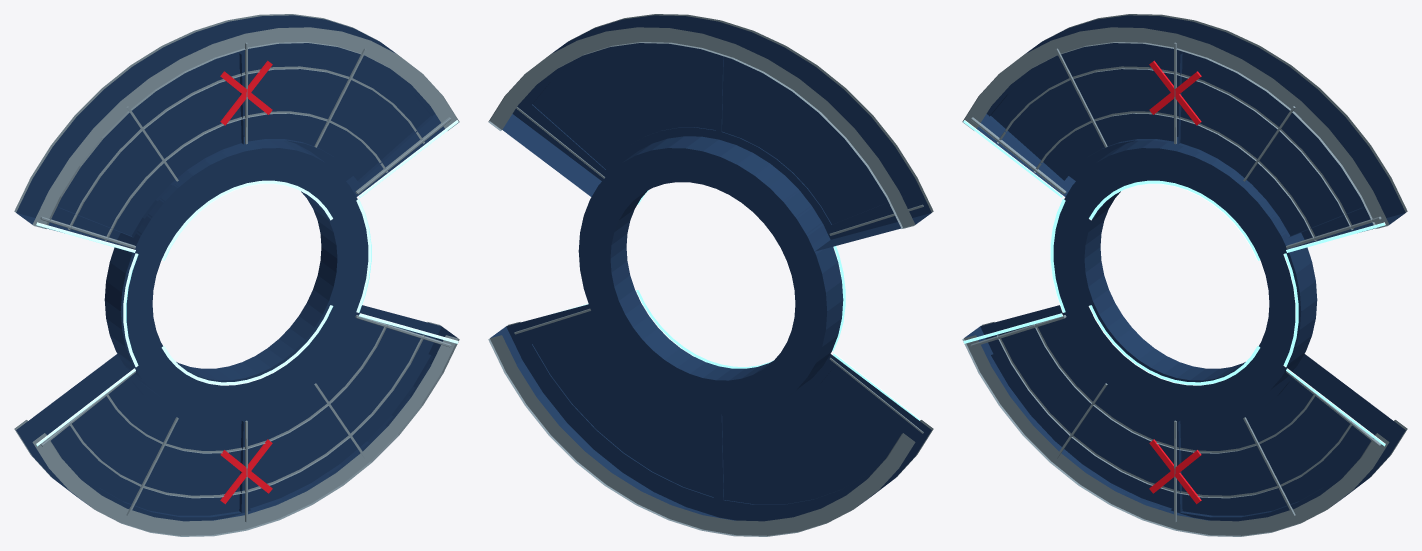
Rendered from foundry-panel-fun9-medium.glb.
3 views of the same model, side by side, from view 1: azimuth 30°, elevation 25°; view 2: azimuth 150°, elevation 25°; view 3: azimuth 330°, elevation 25° (orthographic).
Parts seen in each view (by area): view 1: RENDER_PANEL_SHELL, RENDER_PANEL_FRAME, RENDER_PANEL_SIGNAL, RENDER_PANEL_HAZARD; view 2: RENDER_PANEL_SHELL, RENDER_PANEL_FRAME, RENDER_PANEL_SIGNAL; view 3: RENDER_PANEL_SHELL, RENDER_PANEL_FRAME, RENDER_PANEL_SIGNAL, RENDER_PANEL_HAZARD.
Boxes of the visible parts, x1=… form: RENDER_PANEL_SHELL: x1=16, y1=15, x2=457, y2=521; RENDER_PANEL_FRAME: x1=14, y1=14, x2=459, y2=536; RENDER_PANEL_SIGNAL: x1=36, y1=120, x2=458, y2=446; RENDER_PANEL_HAZARD: x1=220, y1=60, x2=272, y2=504; RENDER_PANEL_SHELL: x1=490, y1=15, x2=931, y2=521; RENDER_PANEL_FRAME: x1=488, y1=14, x2=933, y2=536; RENDER_PANEL_SIGNAL: x1=550, y1=190, x2=920, y2=420; RENDER_PANEL_SHELL: x1=964, y1=15, x2=1405, y2=521; RENDER_PANEL_FRAME: x1=962, y1=14, x2=1407, y2=536; RENDER_PANEL_SIGNAL: x1=963, y1=120, x2=1385, y2=446; RENDER_PANEL_HAZARD: x1=1149, y1=60, x2=1201, y2=504.
Size of what is drawn, in the model's own units: 36.84 by 41 by 3.09.
